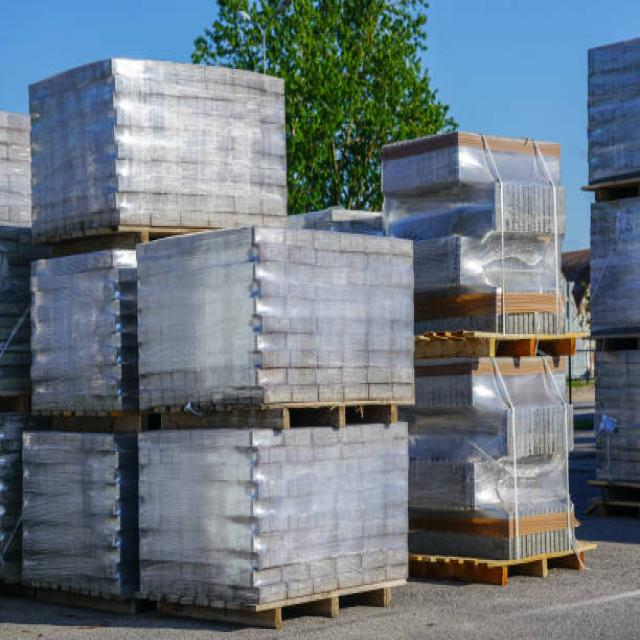Wooden-Pallets: (270, 573, 406, 639), (270, 392, 403, 439), (498, 536, 589, 599), (485, 325, 583, 368)
